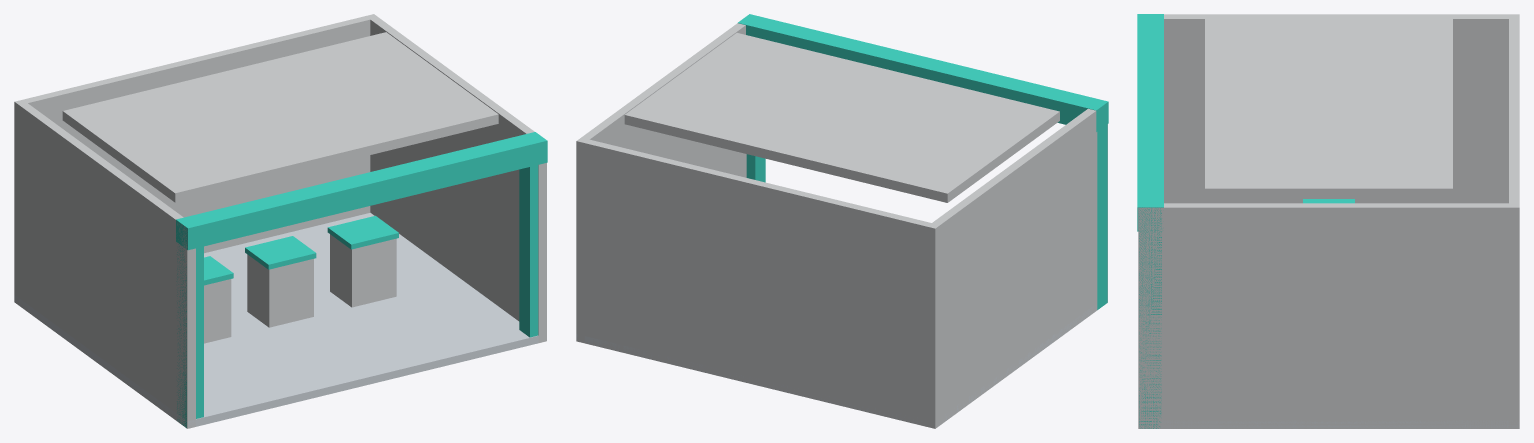
The picture shows the model from 3 angles, left to right: view 1: azimuth 30°, elevation 25°; view 2: azimuth 150°, elevation 25°; view 3: azimuth 270°, elevation 25°; orthographic projection. The views are drawn at different scales.
Parts seen in each view (by area): view 1: Exhibition Booth Concept; view 2: Exhibition Booth Concept; view 3: Exhibition Booth Concept.
Part boxes in pixels (x1=…): Exhibition Booth Concept: x1=14, y1=14, x2=547, y2=428; Exhibition Booth Concept: x1=576, y1=14, x2=1108, y2=428; Exhibition Booth Concept: x1=1137, y1=14, x2=1519, y2=428.
Bounding box in the file's own units: 6 × 3.34 × 5.02.
